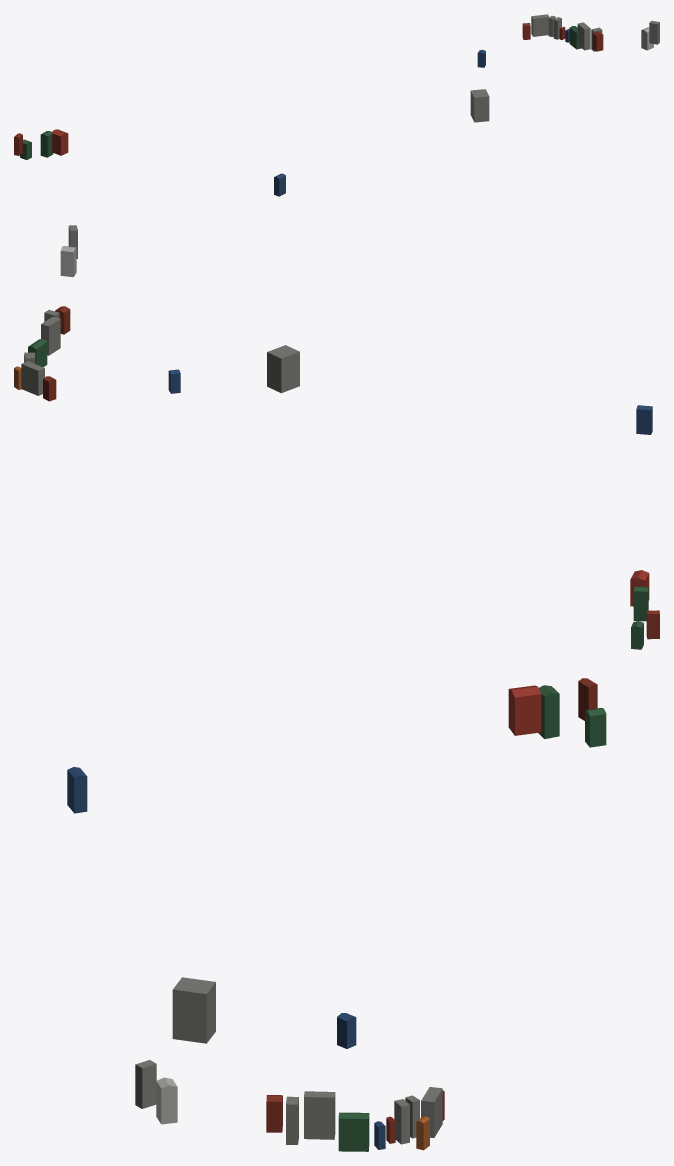
The model's file is near-15-27355-14871.f22b355d.glb.
The picture shows the model from 3 angles, top to bottom: view 1: azimuth 30°, elevation 25°; view 2: azimuth 150°, elevation 25°; view 3: azimuth 270°, elevation 25°; orthographic projection. The views are drawn at different scales.
Size of the model in its own units: 727 by 119 by 317.
